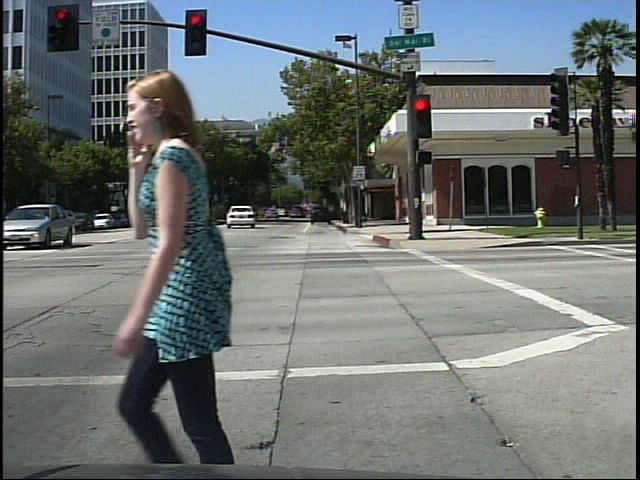person: (111, 63, 297, 466)
